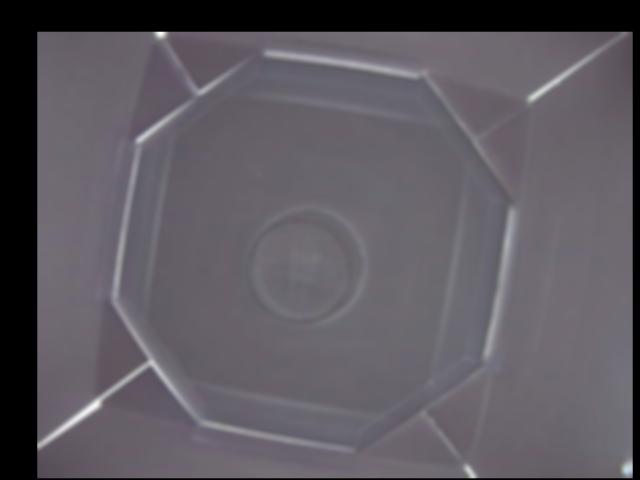Cup: (245, 205, 366, 325)
